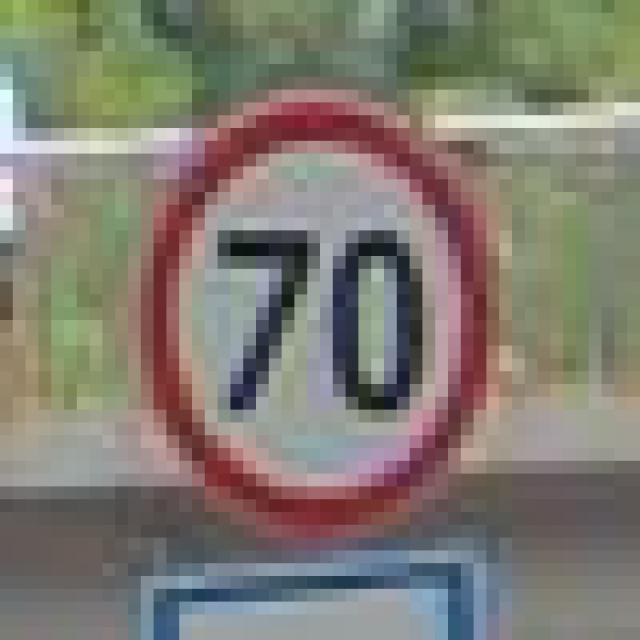SPEED_LIMIT_70: (128, 90, 486, 512)
